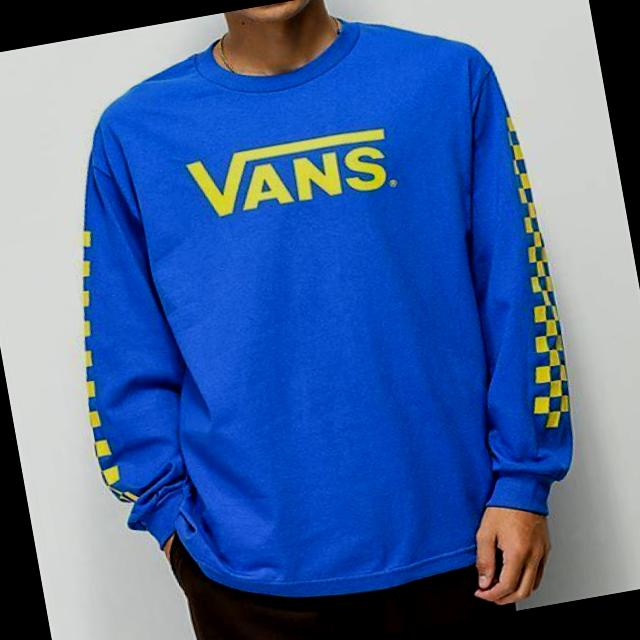sweater: (30, 0, 596, 633)
